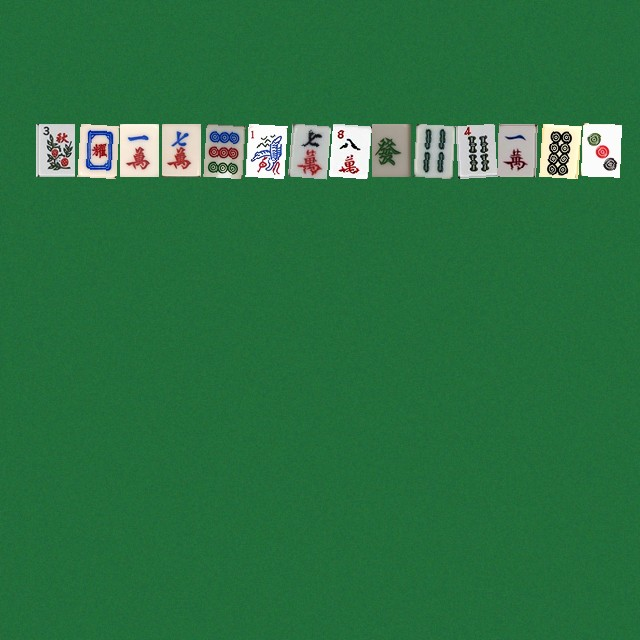tile: (35, 123, 74, 176), (77, 123, 116, 176), (119, 123, 158, 176), (161, 123, 200, 176), (203, 123, 242, 176), (245, 123, 284, 176), (287, 123, 326, 176), (329, 123, 368, 176), (371, 123, 410, 176), (413, 123, 452, 176), (455, 123, 494, 176), (497, 123, 536, 176), (539, 123, 578, 176), (581, 123, 620, 176)
